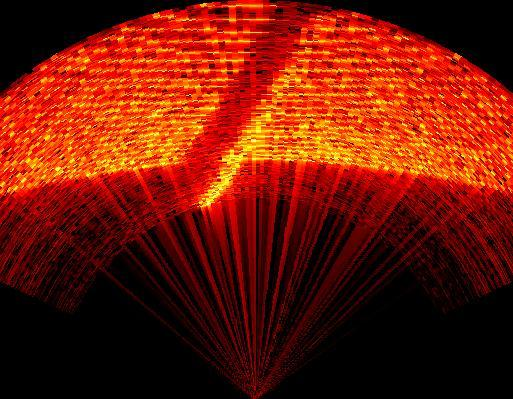pipe: (179, 5, 320, 207)
